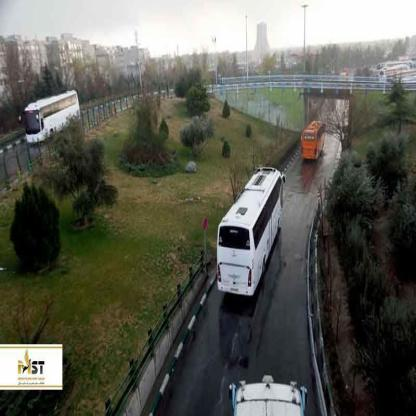Bus: (211, 149, 287, 311), (21, 80, 86, 148), (302, 110, 324, 164)
